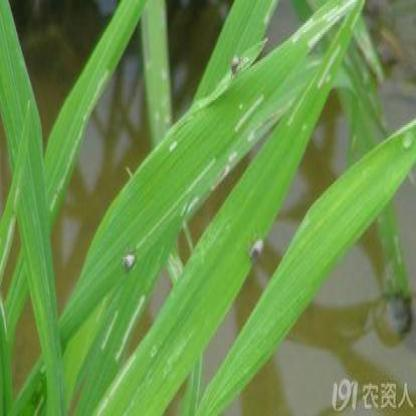rice-bug: (247, 232, 266, 262), (122, 249, 138, 272), (231, 56, 240, 77)
